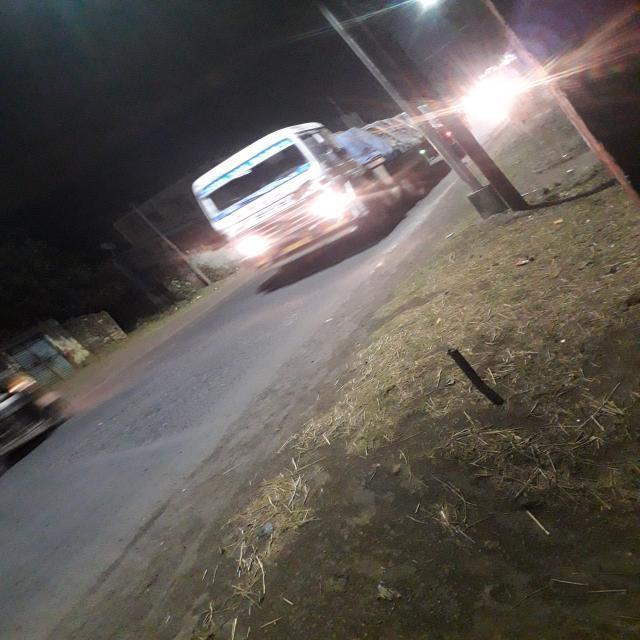truck_front: (185, 105, 476, 282)
